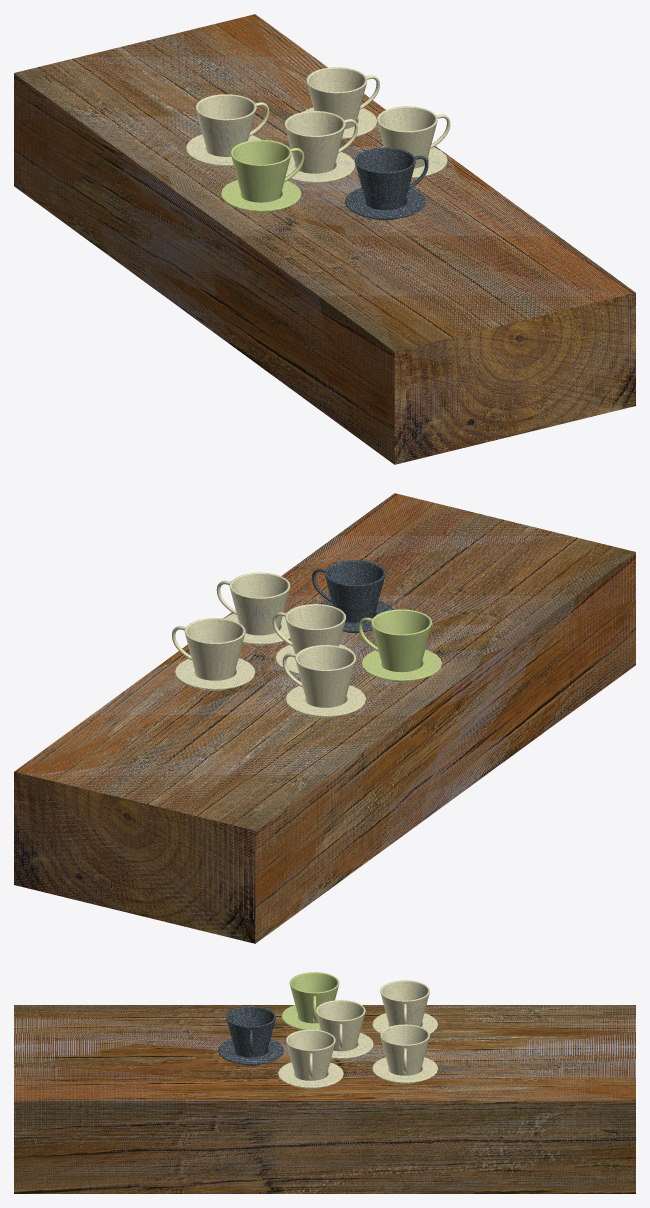
The model's file is table-top-tea-cup.dae.
3 renders of one model, top to bottom at view 1: azimuth 30°, elevation 25°; view 2: azimuth 150°, elevation 25°; view 3: azimuth 270°, elevation 25°, orthographic. The views are drawn at different scales.
Parts seen in each view (by area): view 1: group_6 (×2), Component_3 (×8), Component_7 (×2), Component_4 (×2), Component_1 (×2), Component_6, Component_5; view 2: group_6 (×2), Component_3 (×8), Component_7 (×2), Component_4 (×2), Component_1 (×2), Component_6; view 3: group_6, Component_3 (×8), Component_1 (×4), Component_4 (×2), Component_7 (×2), Component_5, Component_6.
Boxes of the visible parts, x1,y1,x2,y2 form: group_6 (×2): [14, 14, 635, 464]; Component_3 (×8): [195, 67, 450, 173]; Component_7 (×2): [230, 139, 304, 202]; Component_4 (×2): [355, 147, 428, 209]; Component_1 (×2): [186, 134, 355, 182]; Component_6: [220, 180, 301, 211]; Component_5: [345, 187, 425, 219]; group_6 (×2): [14, 493, 635, 943]; Component_3 (×8): [172, 572, 356, 707]; Component_7 (×2): [358, 609, 432, 672]; Component_4 (×2): [312, 560, 385, 622]; Component_1 (×2): [174, 658, 365, 717]; Component_6: [361, 649, 441, 681]; group_6: [14, 1005, 635, 1193]; Component_3 (×8): [286, 980, 429, 1080]; Component_1 (×4): [278, 1013, 437, 1088]; Component_4 (×2): [226, 1006, 275, 1057]; Component_7 (×2): [289, 972, 339, 1023]; Component_5: [218, 1039, 283, 1064]; Component_6: [281, 1005, 320, 1030].
Bounding box in the file's own units: 19.06 × 52.05 × 12.48.
Materials: 6 (2 with a texture image).
